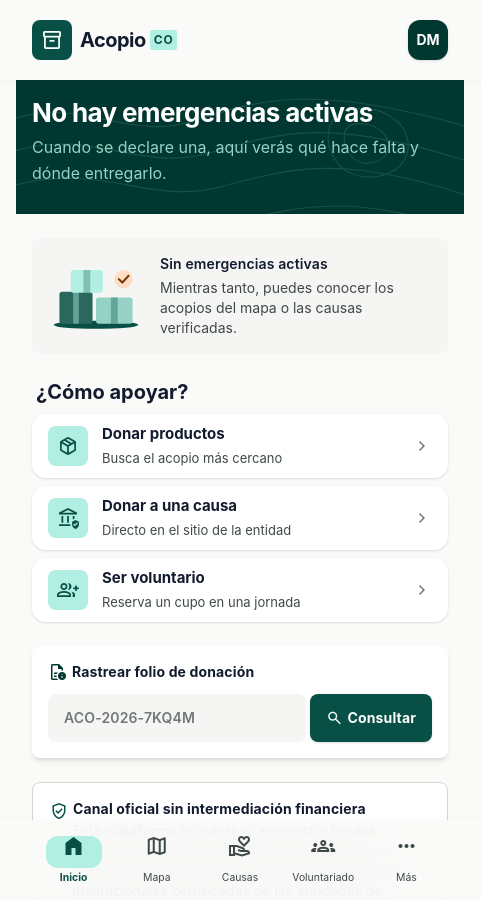
Test: Escape cierra el menú
This screenshot has width=481, height=900.
Click the button with aria-label "Cuenta de Daniela Méndez" at (428, 40), box x1=408 y1=20 x2=448 y2=60
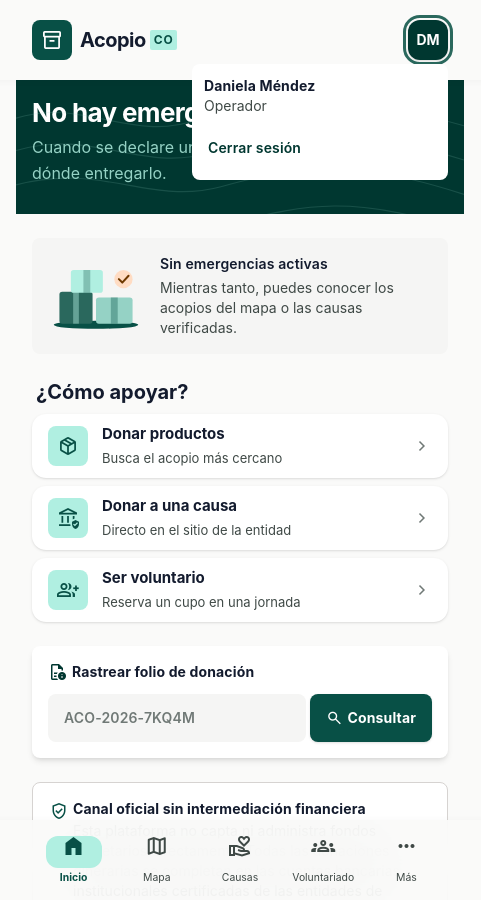
Check: the menu is shown, box x1=192 y1=64 x2=448 y2=180
Press Escape
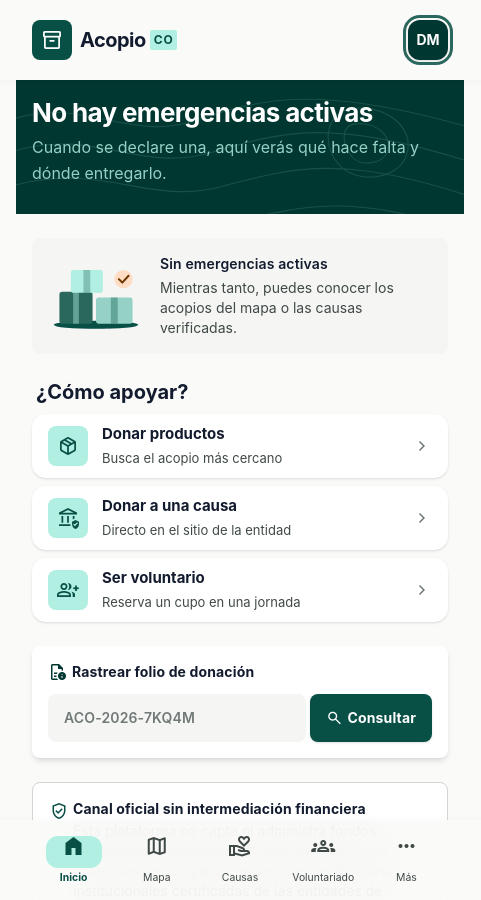
Check: the menu is gone
